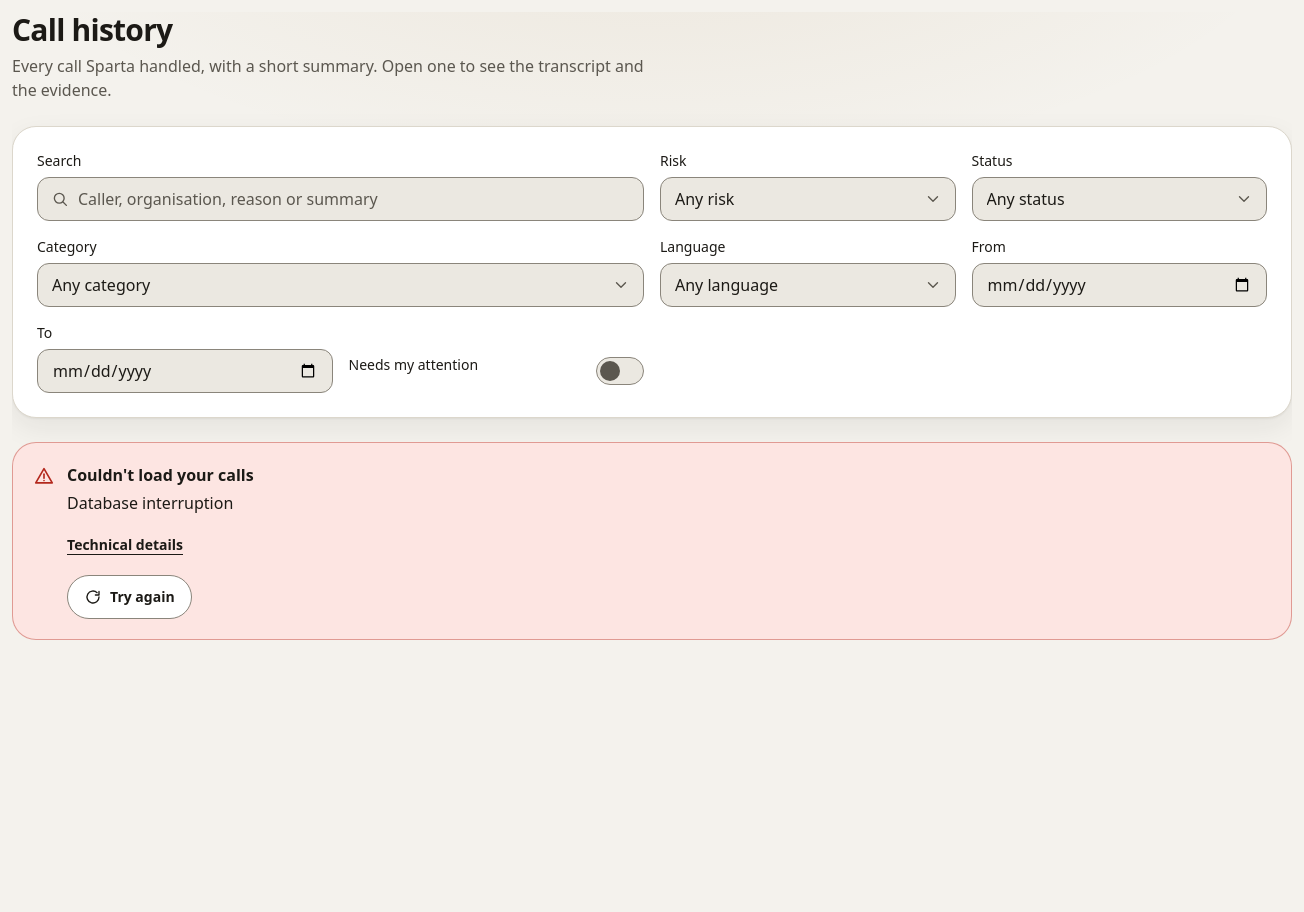
HistoryScreen › shows an error state with a way to retry
Expected: the message shows "Database interruption", [67, 492, 233, 514]
What coordinates should you click on to do the following:
click the button "Try again"
I would click on:
 (129, 597)
Its box is [67, 575, 192, 619].
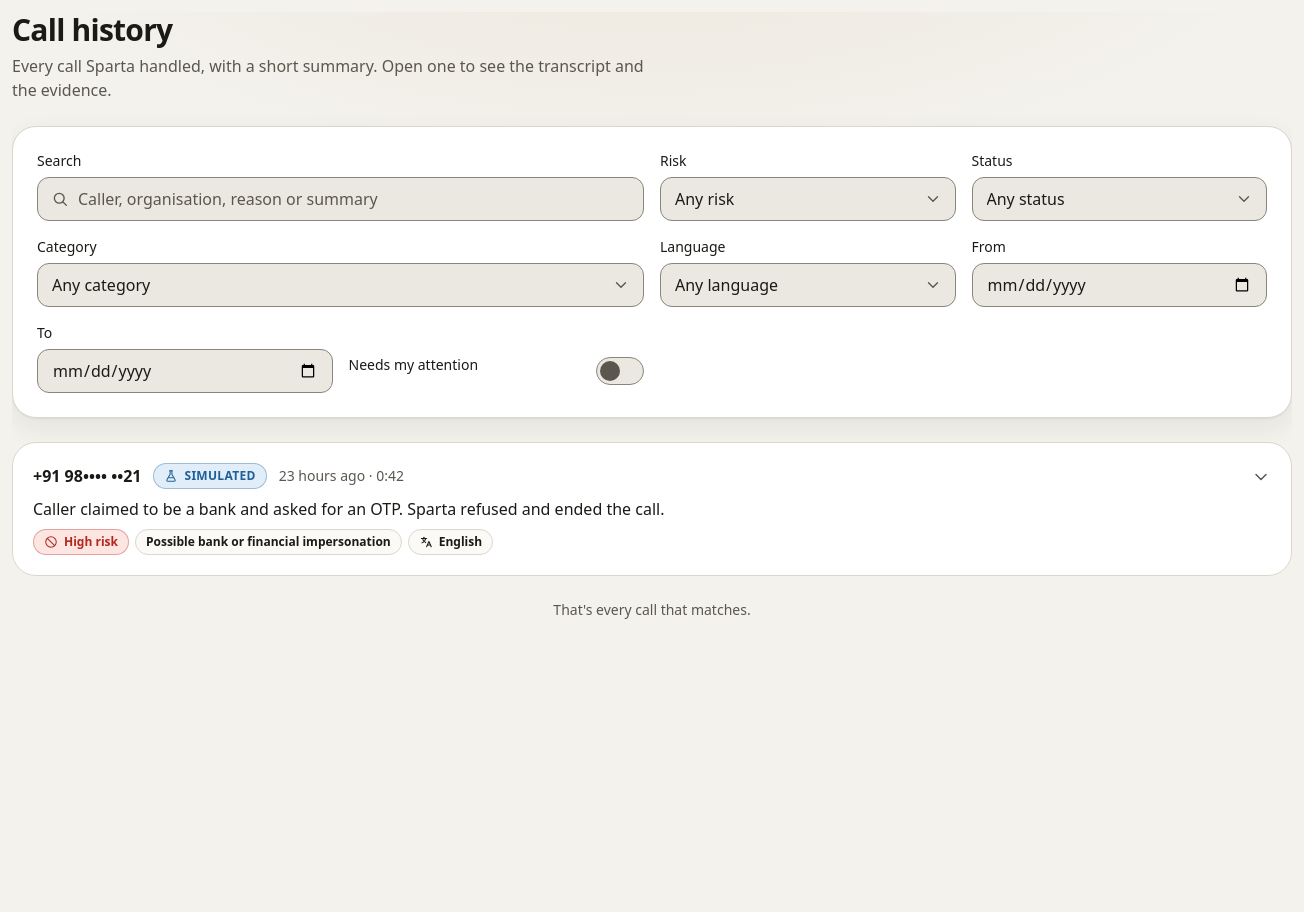
Expected: the list item with test id "history-row" is shown, [12, 442, 1292, 576]
